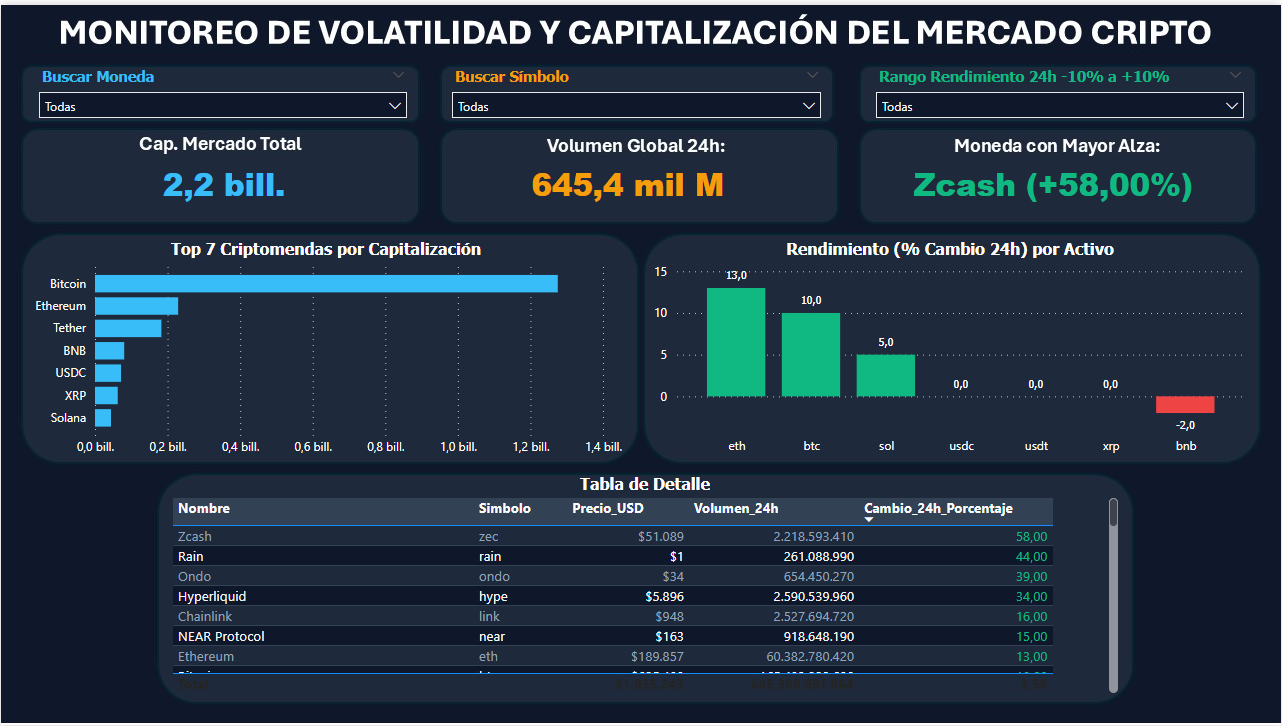

The dashboard page shown, as its layout file describes it:
{"tool":"powerbi","page":{"name":"Página 1","canvas":[1280,720],"ordinal":0},"visuals":[{"type":"cardVisual","fields":{"Data":["Medidas.Total_Capitalizacion"]},"box":[83.2,130.2,280.2,87.7],"z":0},{"type":"cardVisual","fields":{"Data":["Medidas.Total_Volumen_24h"]},"box":[486.3,130.2,280.2,87.7],"z":1000},{"type":"cardVisual","fields":{"Data":["Medidas.Moneda_Top_Ganadora"]},"box":[877.7,130.2,348,87.7],"z":2000},{"type":"clusteredBarChart","title":"Top 7 Criptomendas por Capitalización","fields":{"Category":["datos_cripto_powerbi.Nombre"],"Y":["Medidas.Total_Capitalizacion"]},"box":[24.4,234.1,602,226],"z":3000},{"type":"clusteredColumnChart","title":"Rendimiento (% Cambio 24h) por Activo","fields":{"Category":["datos_cripto_powerbi.Simbolo"],"Y":["Avg(datos_cripto_powerbi.Cambio_24h_Porcentaje)"]},"box":[648.2,233.8,602.1,225.6],"z":4000},{"type":"tableEx","title":"Tabla de Detalle","fields":{"Values":["datos_cripto_powerbi.Nombre","datos_cripto_powerbi.Simbolo","Sum(datos_cripto_powerbi.Precio_USD)","Sum(datos_cripto_powerbi.Volumen_24h)","Avg(datos_cripto_powerbi.Cambio_24h_Porcentaje)"]},"box":[166.3,469.2,955.5,224.2],"z":5000},{"type":"slicer","fields":{"Values":["datos_cripto_powerbi.Nombre"]},"box":[27.7,57.4,388.7,60.5],"z":6000},{"type":"slicer","fields":{"Values":["datos_cripto_powerbi.Simbolo"]},"box":[441,57.4,388.7,60.5],"z":7000},{"type":"slicer","fields":{"Values":["datos_cripto_powerbi.Precio_USD"]},"box":[864.6,57.4,388.7,60.5],"z":8000}]}

Visuals, with their boxes in screenshot pixels (x1, y1, x2, y2), scaled from the page's 1280x720 canvas onto the 1282x726 screenshot:
cardVisual - Medidas.Total_Capitalizacion: (x1=83, y1=131, x2=364, y2=220)
cardVisual - Medidas.Total_Volumen_24h: (x1=487, y1=131, x2=768, y2=220)
cardVisual - Medidas.Moneda_Top_Ganadora: (x1=879, y1=131, x2=1228, y2=220)
"Top 7 Criptomendas por Capitalización" clusteredBarChart: (x1=24, y1=236, x2=627, y2=464)
"Rendimiento (% Cambio 24h) por Activo" clusteredColumnChart: (x1=649, y1=236, x2=1252, y2=463)
"Tabla de Detalle" tableEx: (x1=167, y1=473, x2=1124, y2=699)
slicer - datos_cripto_powerbi.Nombre: (x1=28, y1=58, x2=417, y2=119)
slicer - datos_cripto_powerbi.Simbolo: (x1=442, y1=58, x2=831, y2=119)
slicer - datos_cripto_powerbi.Precio_USD: (x1=866, y1=58, x2=1255, y2=119)
